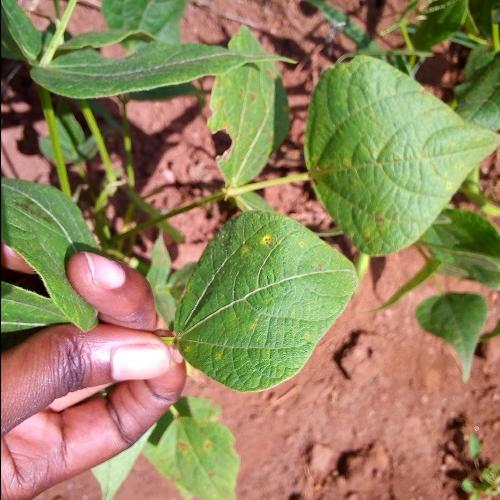hawar: (222, 217, 328, 279)
